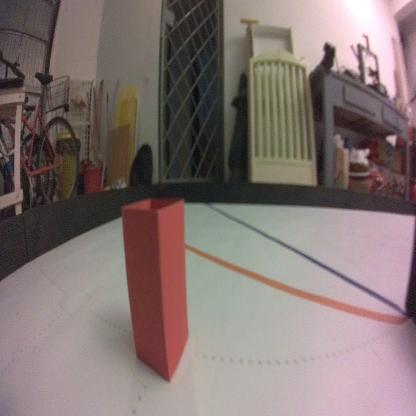red: (120, 195, 190, 383)
